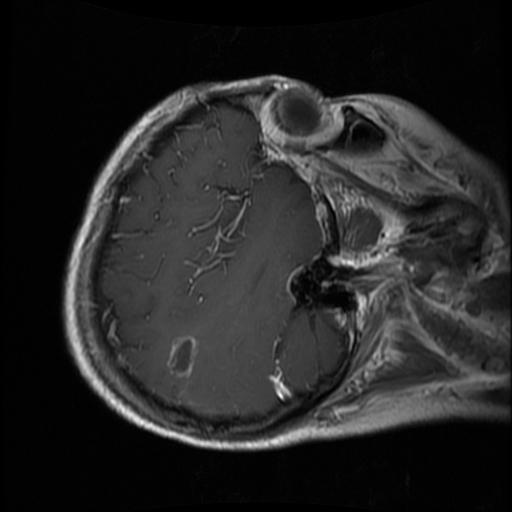glioma: (167, 337, 193, 377)
